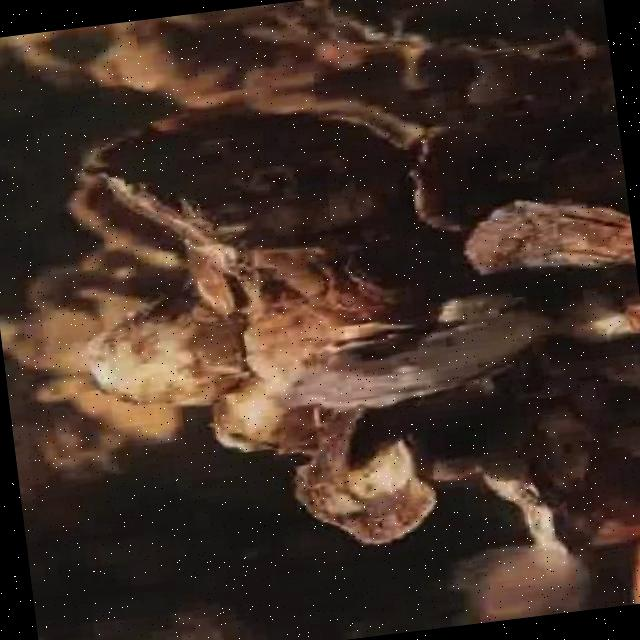Oyster-Closed: (81, 123, 407, 272), (187, 0, 600, 79), (292, 302, 559, 408), (79, 284, 254, 410), (296, 401, 438, 547), (460, 197, 637, 290), (404, 127, 543, 235), (245, 280, 354, 394), (65, 182, 178, 275), (528, 401, 608, 528), (341, 231, 476, 306), (210, 383, 318, 462), (75, 389, 179, 448), (6, 310, 99, 367), (525, 495, 581, 581), (550, 289, 639, 343), (181, 251, 234, 321), (30, 261, 107, 308), (584, 511, 639, 549)
Oyster-Open: (319, 318, 425, 356)
